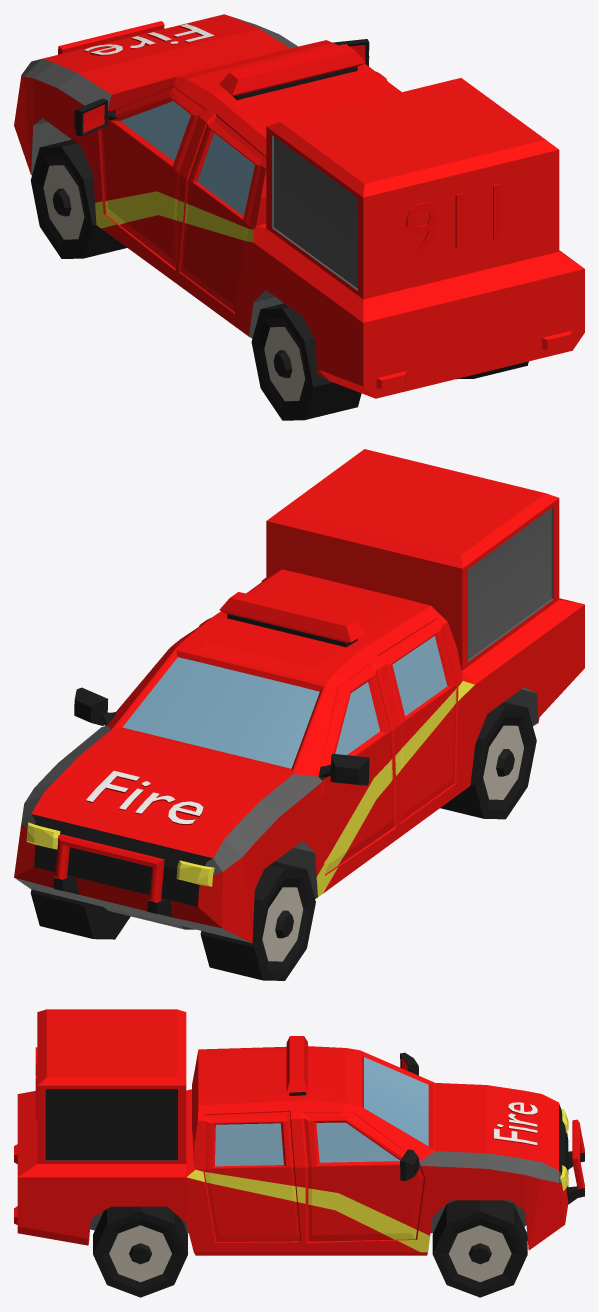
The model's file is FireCar1.fbx.
3 views of the same model, one above another, from view 1: azimuth 30°, elevation 25°; view 2: azimuth 150°, elevation 25°; view 3: azimuth 270°, elevation 25° (orthographic). The views are drawn at different scales.
Visible parts, largest first — view 1: Shutter; view 2: Shutter; view 3: Shutter.
Boxes of the visible parts, x1,y1,x2,y2 form: Shutter: (14, 14, 584, 420); Shutter: (14, 449, 584, 980); Shutter: (14, 1009, 584, 1297).
Bounding box in the file's own units: 240 × 217 × 530.
Materials: 1 (1 with a texture image).
